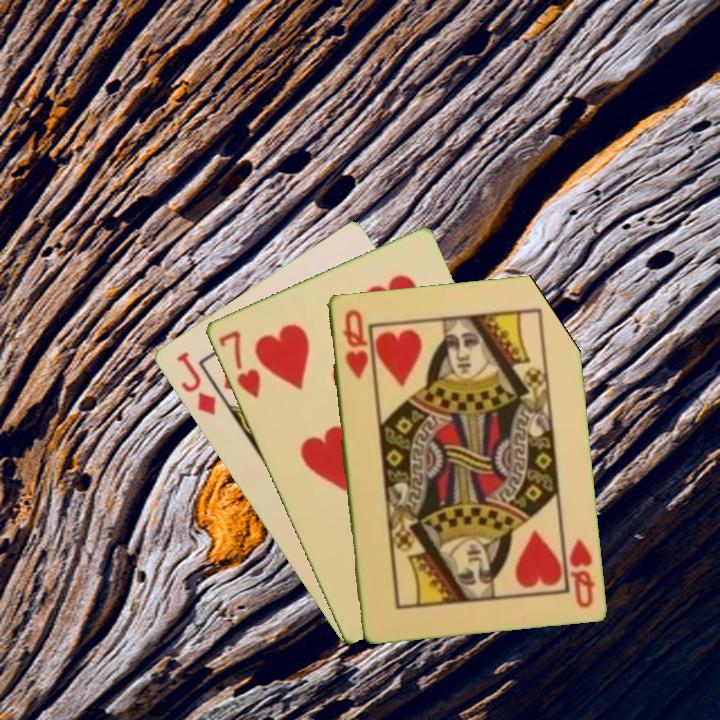7h: (214, 326, 263, 401)
Jd: (172, 348, 219, 418)
Qh: (560, 529, 597, 610), (339, 305, 370, 382)
